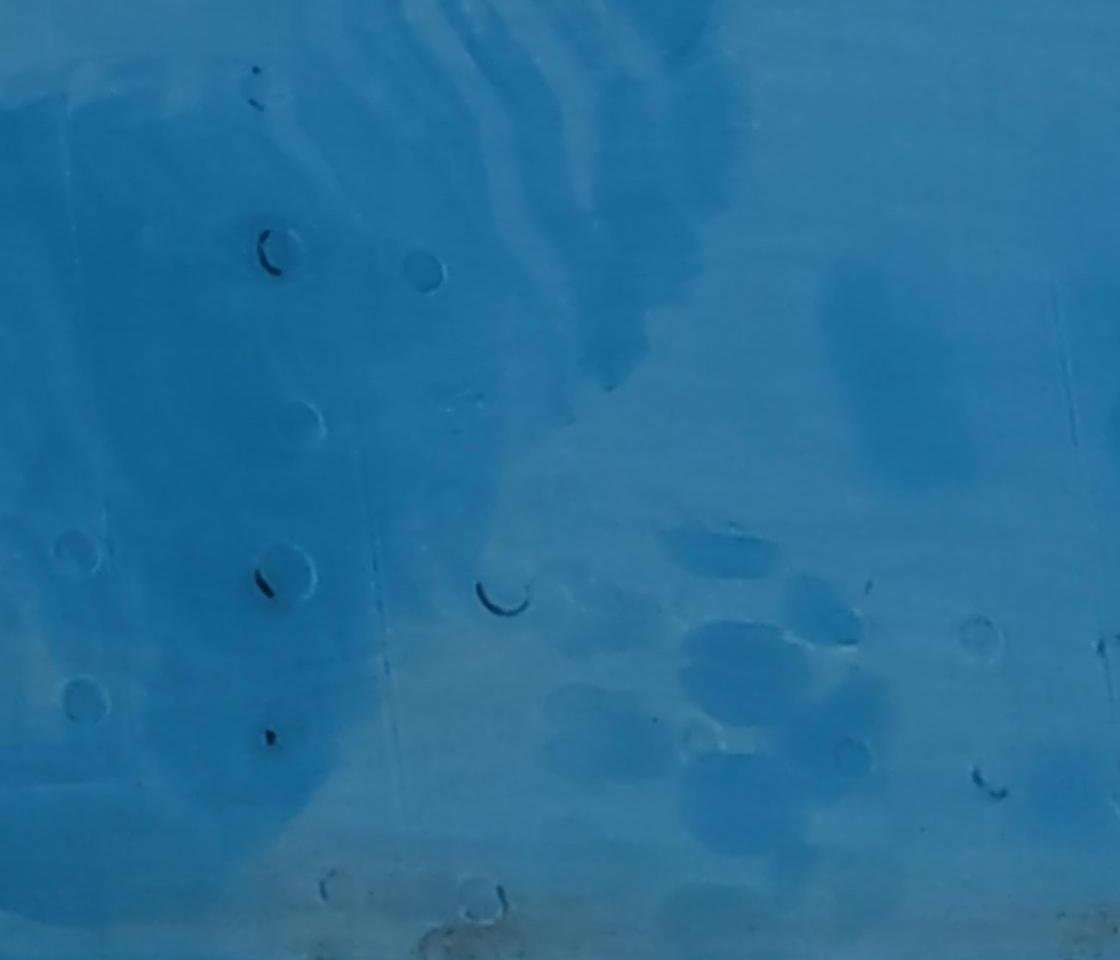scratch: (463, 575, 535, 623), (246, 227, 285, 282), (250, 567, 278, 608)
